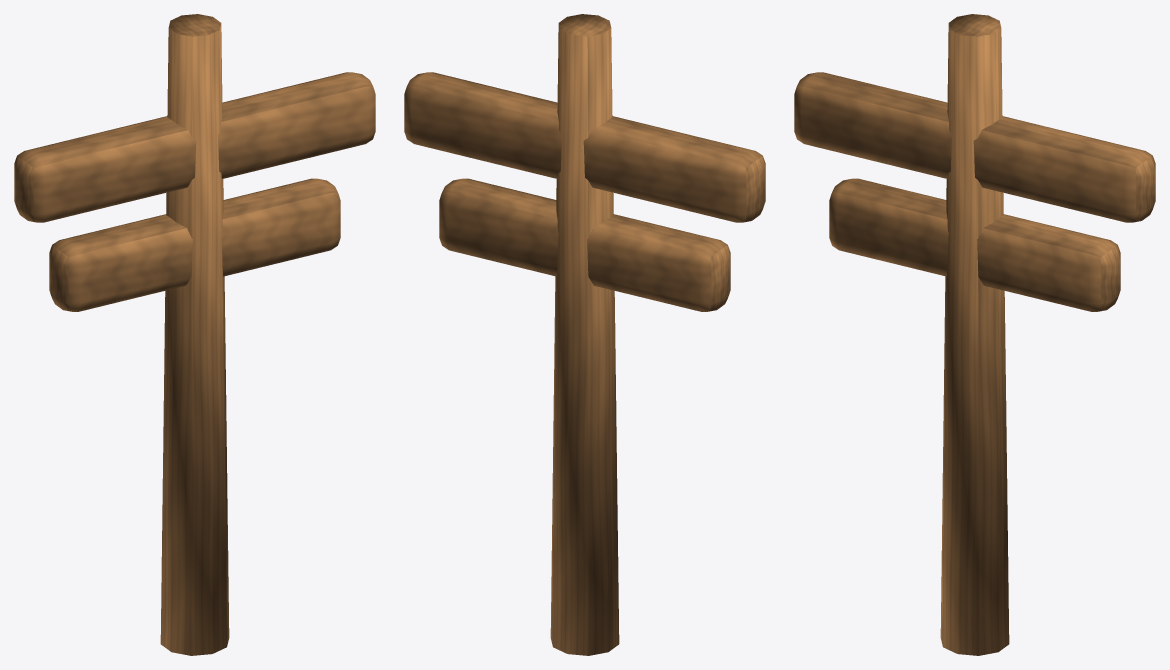
Rendered from trail_sign.glb.
3 renders of one model, left to right at view 1: azimuth 30°, elevation 25°; view 2: azimuth 150°, elevation 25°; view 3: azimuth 330°, elevation 25°, orthographic.
Parts seen in each view (by area): view 1: trail_sign.001; view 2: trail_sign.001; view 3: trail_sign.001.
Part boxes in pixels (x1=…): trail_sign.001: x1=14, y1=14, x2=375, y2=655; trail_sign.001: x1=404, y1=14, x2=765, y2=655; trail_sign.001: x1=794, y1=14, x2=1155, y2=655.
Size of the model in its own units: 1.5 by 2.52 by 0.26.
1 material, 1 textured.
